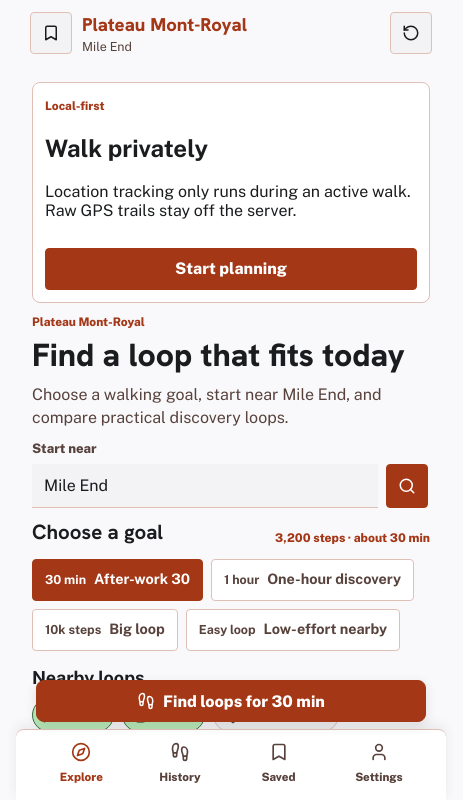
Test: App › generates goal-first routes using only supported interests
The width and height of the screenshot is (463, 800).
Click the button "Find loops for 30 min". click: point(231, 701)
box: [36,680,426,722]
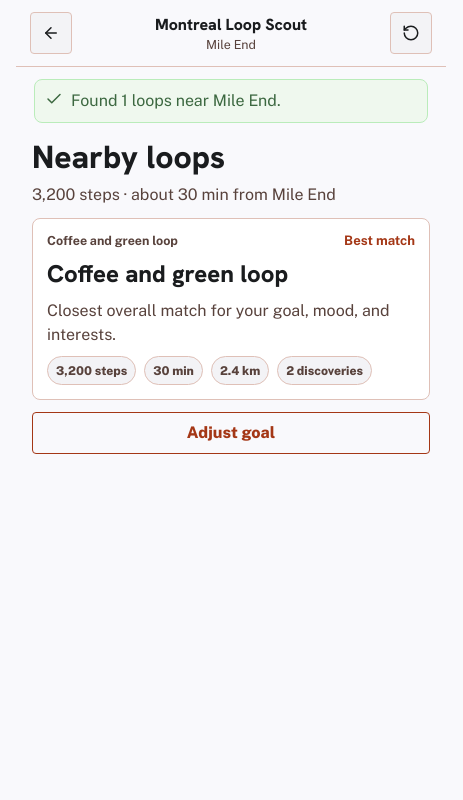
expect the heading "Nearby loops" is shown: met, box [32,136,225,178]
expect the button "Coffee and green loop" is shown: met, box [32,218,430,400]
expect the text "Best match" is shown: met, box [344,233,415,248]
